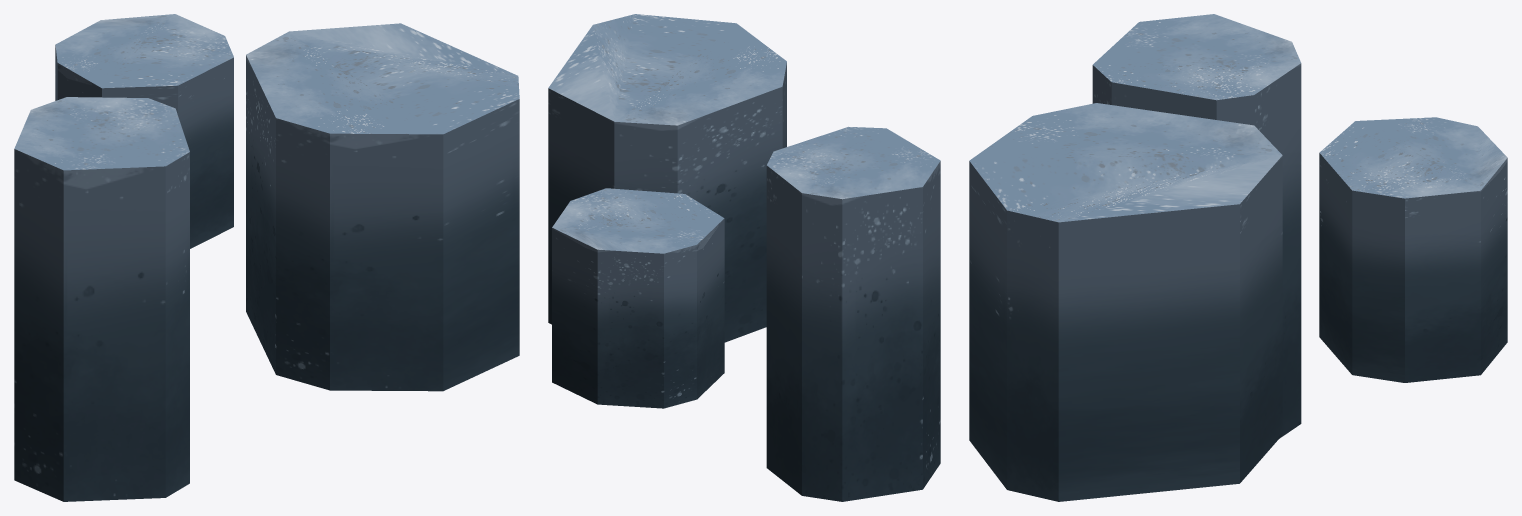
Rendered from RockS1.fbx.
The picture shows the model from 3 angles, left to right: view 1: azimuth 30°, elevation 25°; view 2: azimuth 150°, elevation 25°; view 3: azimuth 270°, elevation 25°; orthographic projection. The views are drawn at different scales.
Parts seen in each view (by area): view 1: Cube.011, Cube.015, Cube.012; view 2: Cube.015, Cube.011, Cube.012; view 3: Cube.011, Cube.012, Cube.015.
Boxes of the visible parts, box(x1,y1,x2,y2) form: Cube.011: box(246, 23, 519, 391); Cube.015: box(14, 97, 189, 501); Cube.012: box(55, 14, 233, 248); Cube.015: box(766, 126, 940, 501); Cube.011: box(548, 14, 786, 342); Cube.012: box(552, 188, 724, 408); Cube.011: box(969, 103, 1282, 501); Cube.012: box(1319, 117, 1507, 382); Cube.015: box(1092, 14, 1301, 438).
Size of the model in its own units: 370 by 287 by 366.
